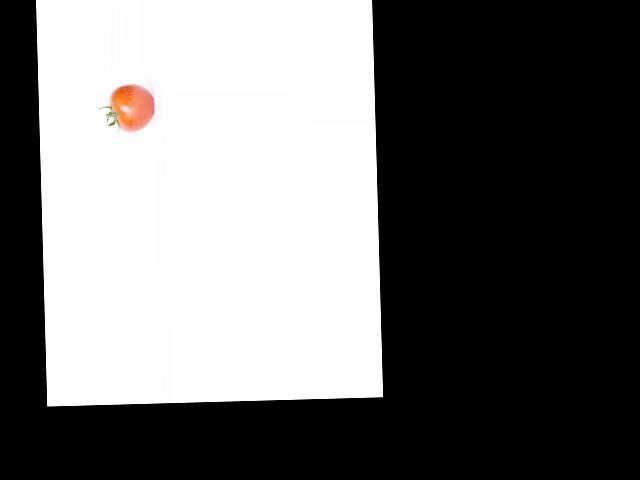tomato: (108, 83, 154, 132)
